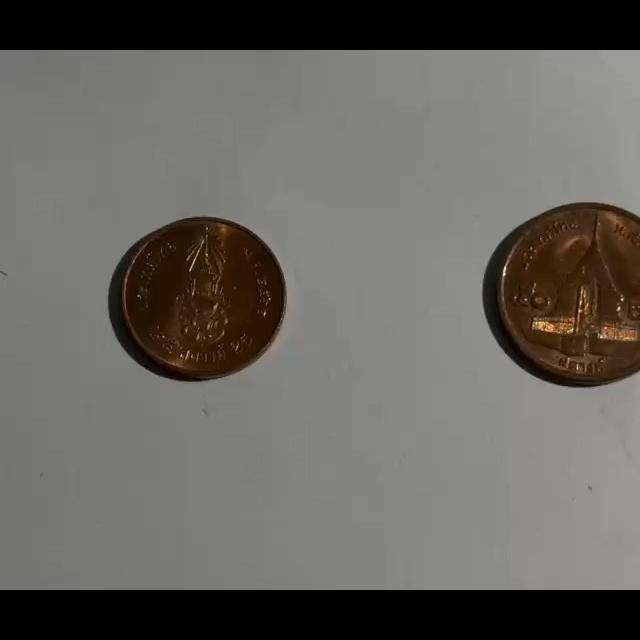25-satang: (117, 218, 285, 380)
50-satang: (487, 203, 640, 384)
